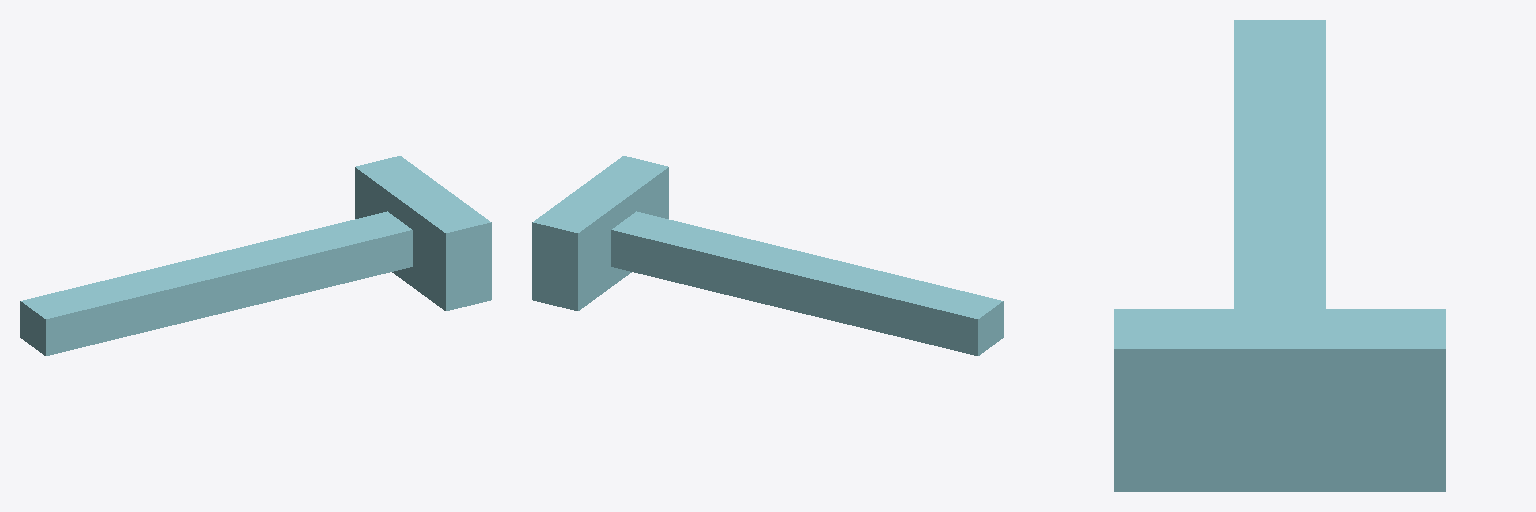
The robot description file, URDF, robot "cuboid_hammer_v003":
<?xml version="1.0"?>
<robot name="cuboid_hammer_v003">

  <link name="cuboid_hammer_v003">
    <!-- Handle -->
    <visual>
      <origin xyz="0 0 0" rpy="0 0 0"/>
      <geometry>
        <box size="0.2741446757988873 0.0326332879824413 0.026371316101280608"/>
      </geometry>
      <material name="material">
        <color rgba="0.639 0.847 0.882 1.0"/>
      </material>
    </visual>
    <collision>
      <origin xyz="0 0 0" rpy="0 0 0"/>
      <geometry>
        <box size="0.2741446757988873 0.0326332879824413 0.026371316101280608"/>
      </geometry>
    </collision>

    <!-- Head -->
    <visual>
      <origin xyz="0.15416285726204101 0 0" rpy="0 0 0"/>
      <geometry>
        <box size="0.034181038725194735 0.11794886170764322 0.05572484485288791"/>
      </geometry>
      <material name="material">
        <color rgba="0.639 0.847 0.882 1.0"/>
      </material>
    </visual>
    <collision>
      <origin xyz="0.15416285726204101 0 0" rpy="0 0 0"/>
      <geometry>
        <box size="0.034181038725194735 0.11794886170764322 0.05572484485288791"/>
      </geometry>
    </collision>

    <inertial>
      <density value="400.0"/>
    </inertial>
  </link>

</robot>

--- What the picture shows (computed from the rendered views, not written in the file) ---
Views: 3 orthographic renders of the robot side by side, from view 1: azimuth 30°, elevation 25°; view 2: azimuth 150°, elevation 25°; view 3: azimuth 270°, elevation 25°.
Robot: cuboid_hammer_v003 — 1 links, 0 joints (none); root link cuboid_hammer_v003; default pose: every joint at zero.
Visible links, largest first — view 1: cuboid_hammer_v003; view 2: cuboid_hammer_v003; view 3: cuboid_hammer_v003.
Link boxes in pixels (box(x1,y1,x2,y2)): cuboid_hammer_v003: box(20, 156, 491, 355); cuboid_hammer_v003: box(532, 156, 1003, 355); cuboid_hammer_v003: box(1114, 20, 1445, 491).
Size in the robot's own frame: 0.3083 by 0.1179 by 0.0557 metres.
Geometry: primitives only (box / cylinder / sphere), no mesh files.
